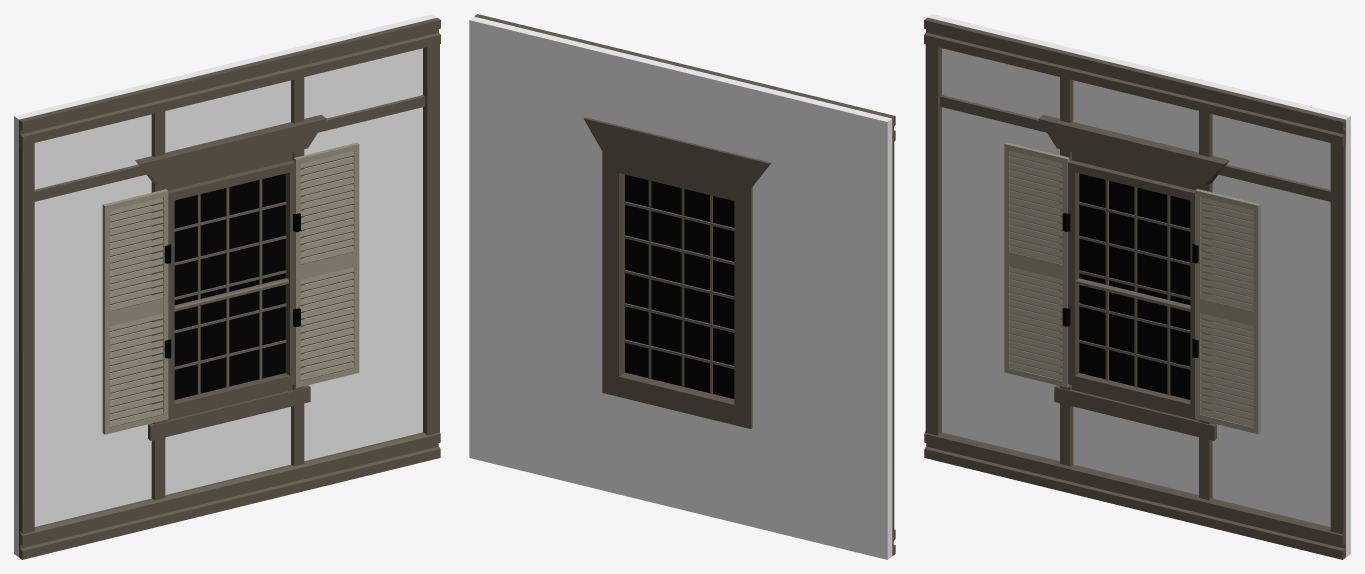
Rendered from WINDOW_07_1.fbx.
3 renders of one model, left to right at view 1: azimuth 30°, elevation 25°; view 2: azimuth 150°, elevation 25°; view 3: azimuth 330°, elevation 25°, orthographic.
Visible parts, largest first — view 1: WINDOW_07_1; view 2: WINDOW_07_1; view 3: WINDOW_07_1.
Part boxes in pixels (box(x1,y1,x2,y2)): WINDOW_07_1: box(14, 14, 440, 559); WINDOW_07_1: box(469, 14, 895, 559); WINDOW_07_1: box(924, 14, 1350, 559).
Size of the model in its own units: 300 by 300 by 16.57.
